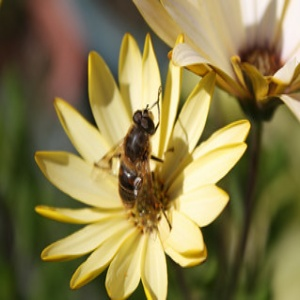bee: (96, 86, 172, 235)
